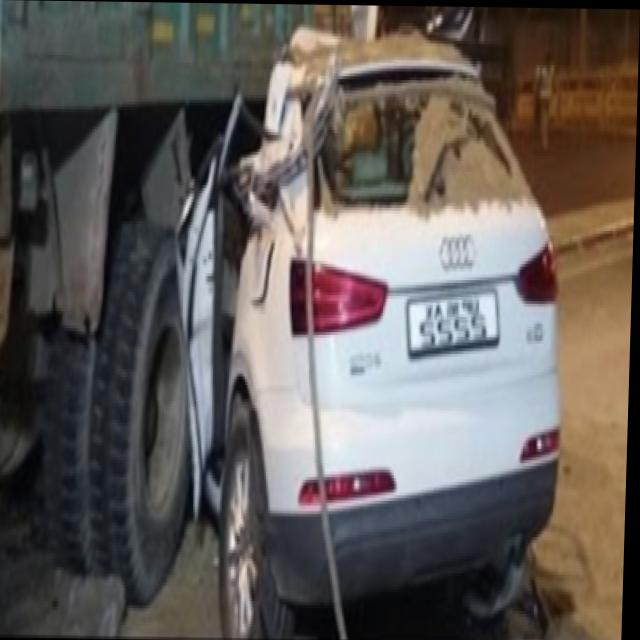licence: (414, 272, 504, 359)
